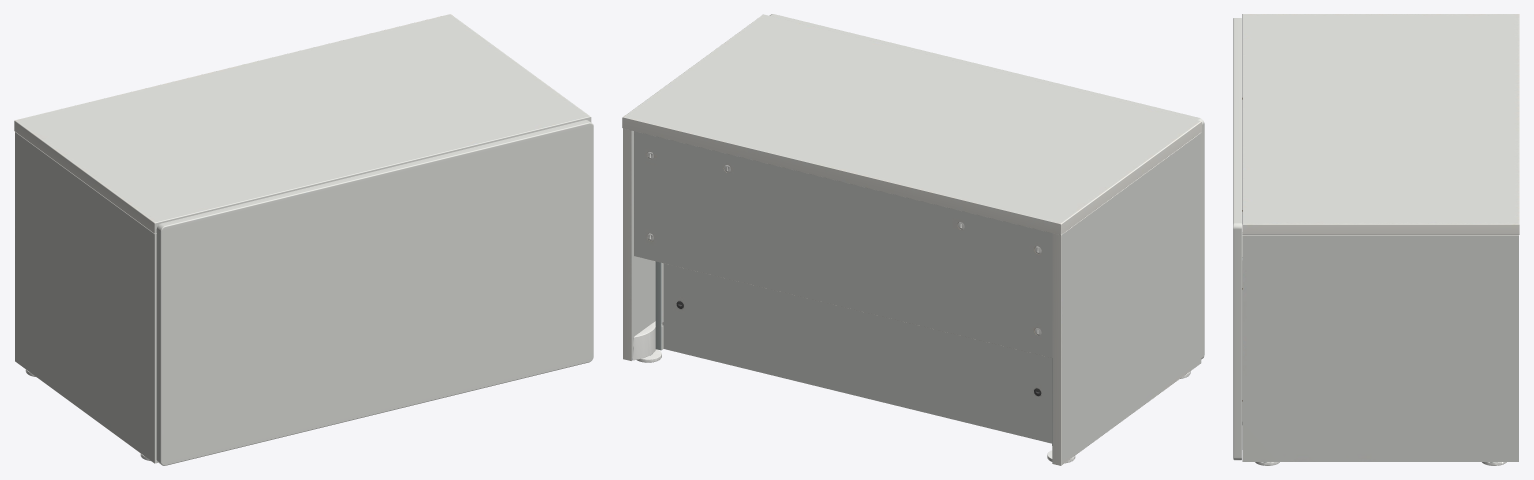
File: smastad_awka_z_pojemnikiem_na_zabawki_19389152.glb
3 renders of one model, left to right at view 1: azimuth 30°, elevation 25°; view 2: azimuth 150°, elevation 25°; view 3: azimuth 270°, elevation 25°, orthographic.
Parts seen in each view (by area): view 1: smastad_awka_z_pojemnikiem_na_zabawki_19389152; view 2: smastad_awka_z_pojemnikiem_na_zabawki_19389152; view 3: smastad_awka_z_pojemnikiem_na_zabawki_19389152.
Part boxes in pixels (bbox=[...]): smastad_awka_z_pojemnikiem_na_zabawki_19389152: bbox=[14, 14, 593, 465]; smastad_awka_z_pojemnikiem_na_zabawki_19389152: bbox=[622, 14, 1204, 465]; smastad_awka_z_pojemnikiem_na_zabawki_19389152: bbox=[1233, 14, 1519, 465].
Size of the model in its own units: 0.901 by 0.484 by 0.5179.
1 material, 1 textured.
